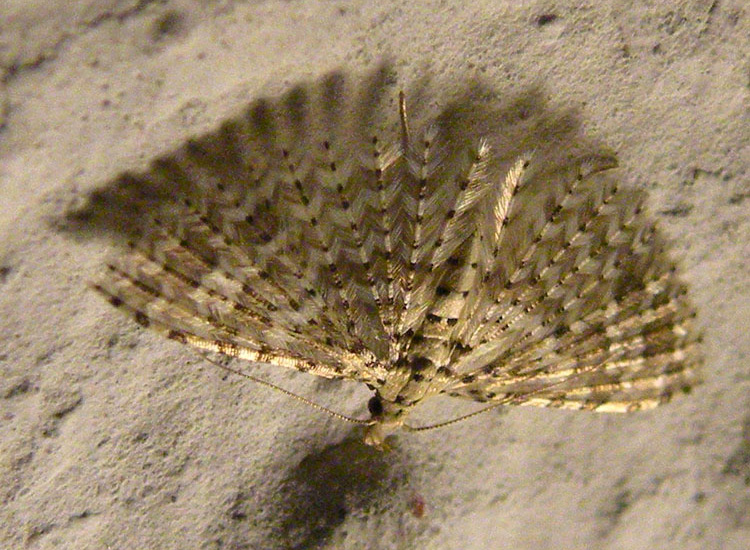Alucitidae: (84, 76, 716, 460)
moth: (86, 78, 718, 462)
